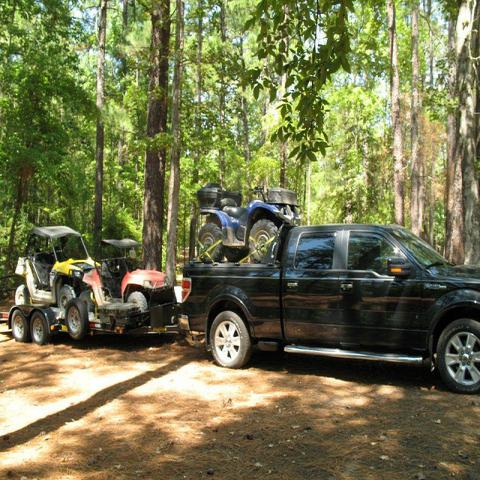truck: (177, 220, 480, 393), (8, 225, 141, 343), (195, 181, 302, 265)
